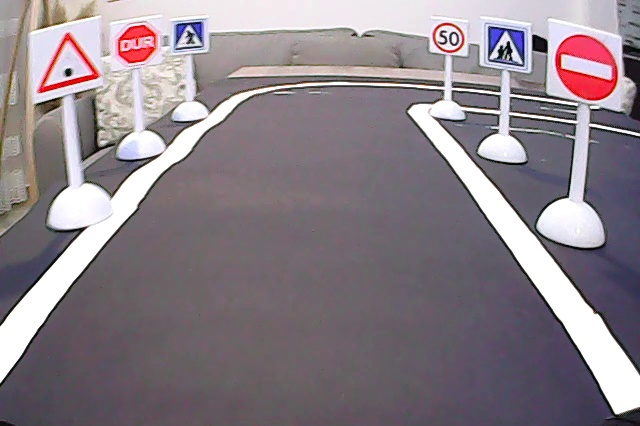do not enter: (549, 25, 621, 105)
green light: (32, 32, 104, 95)
pedestrian crossing: (174, 20, 205, 51)
school crossing: (487, 21, 529, 69)
speed limit 50: (432, 20, 465, 55)
stop sign: (112, 22, 160, 65)
